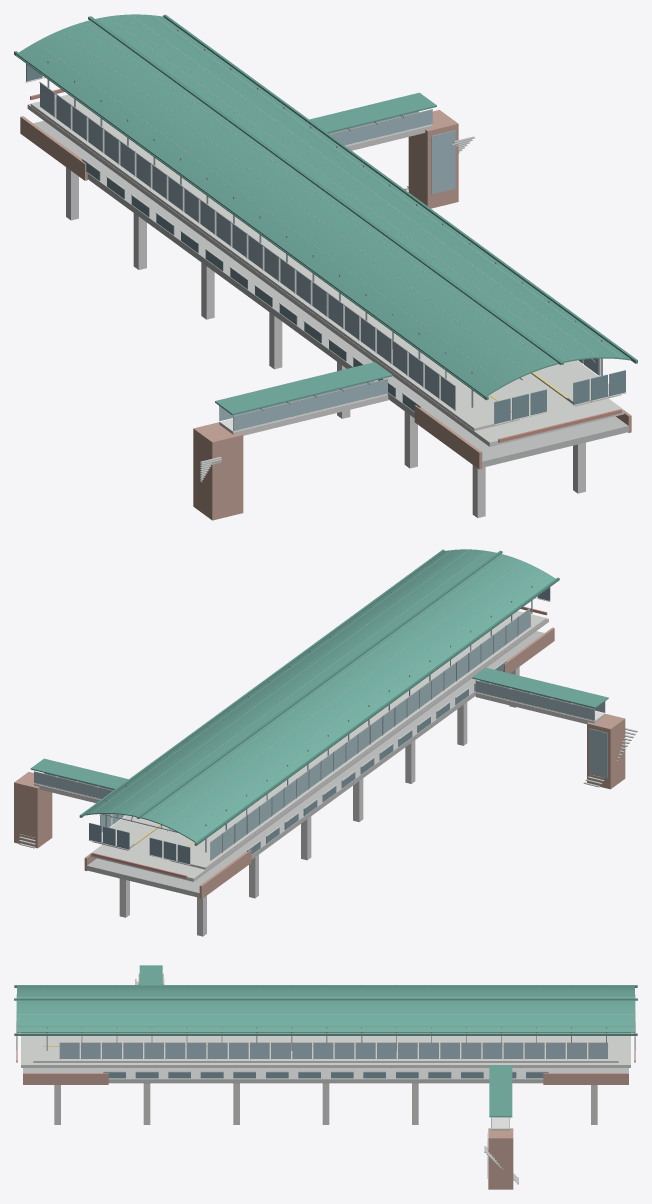
The picture shows the model from 3 angles, top to bottom: view 1: azimuth 30°, elevation 25°; view 2: azimuth 150°, elevation 25°; view 3: azimuth 270°, elevation 25°; orthographic projection. The views are drawn at different scales.
Parts seen in each view (by area): view 1: MRT6 station 1 concept geometry; view 2: MRT6 station 1 concept geometry; view 3: MRT6 station 1 concept geometry.
Part boxes in pixels (x1,y1,x2,y2): MRT6 station 1 concept geometry: (14, 14, 637, 520); MRT6 station 1 concept geometry: (14, 549, 637, 936); MRT6 station 1 concept geometry: (14, 965, 637, 1189).
Bounding box in the file's own units: 101 × 29.49 × 154.
